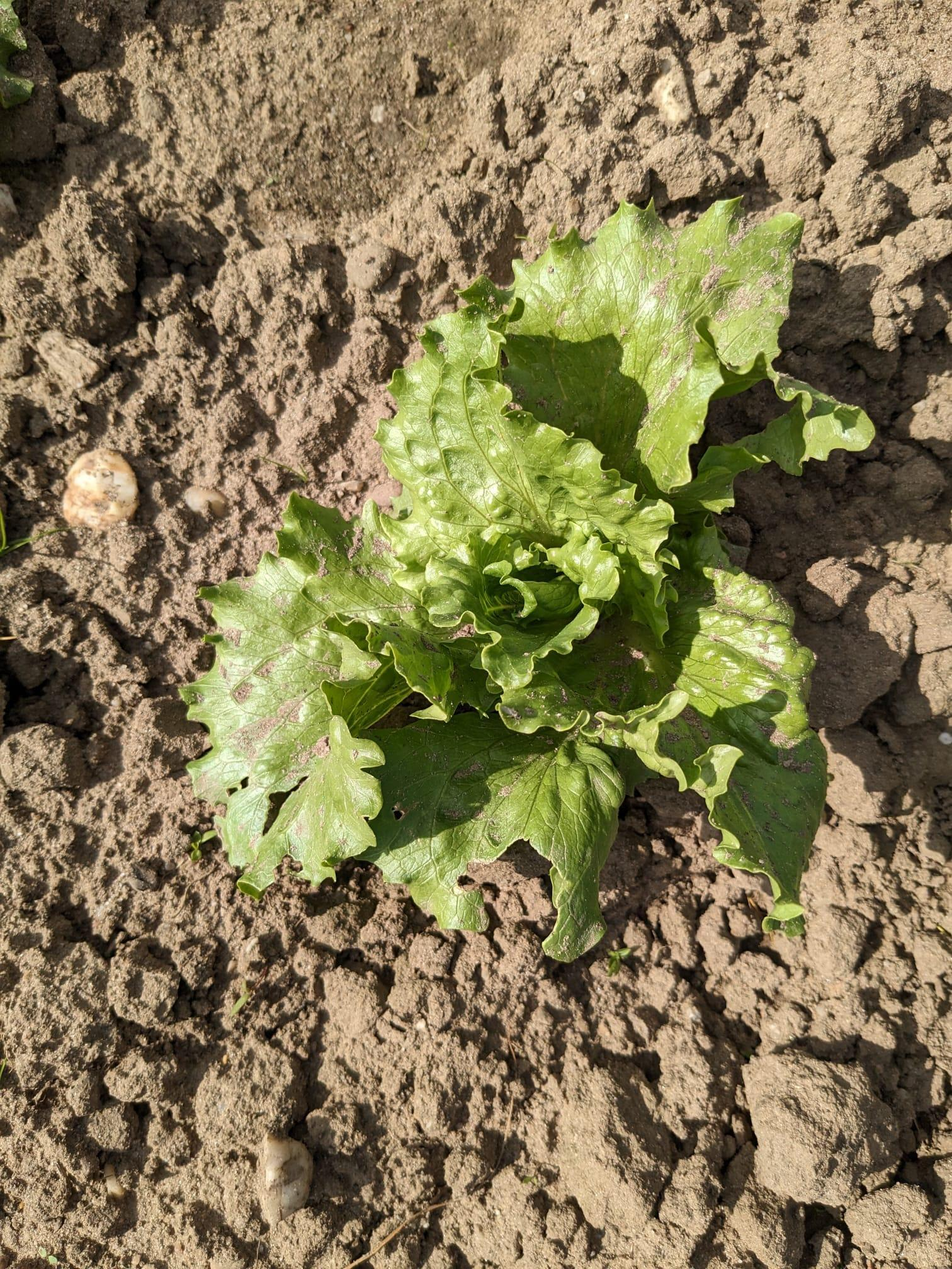Healthy: (181, 200, 875, 962)
